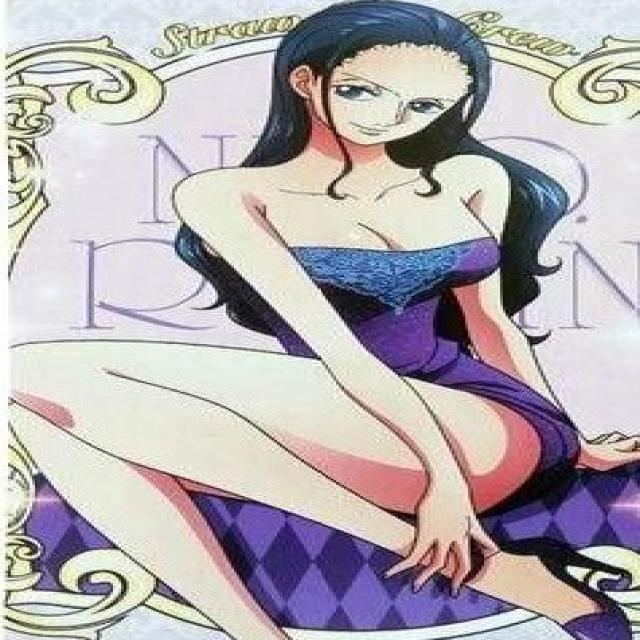Robin: (11, 0, 632, 640)
